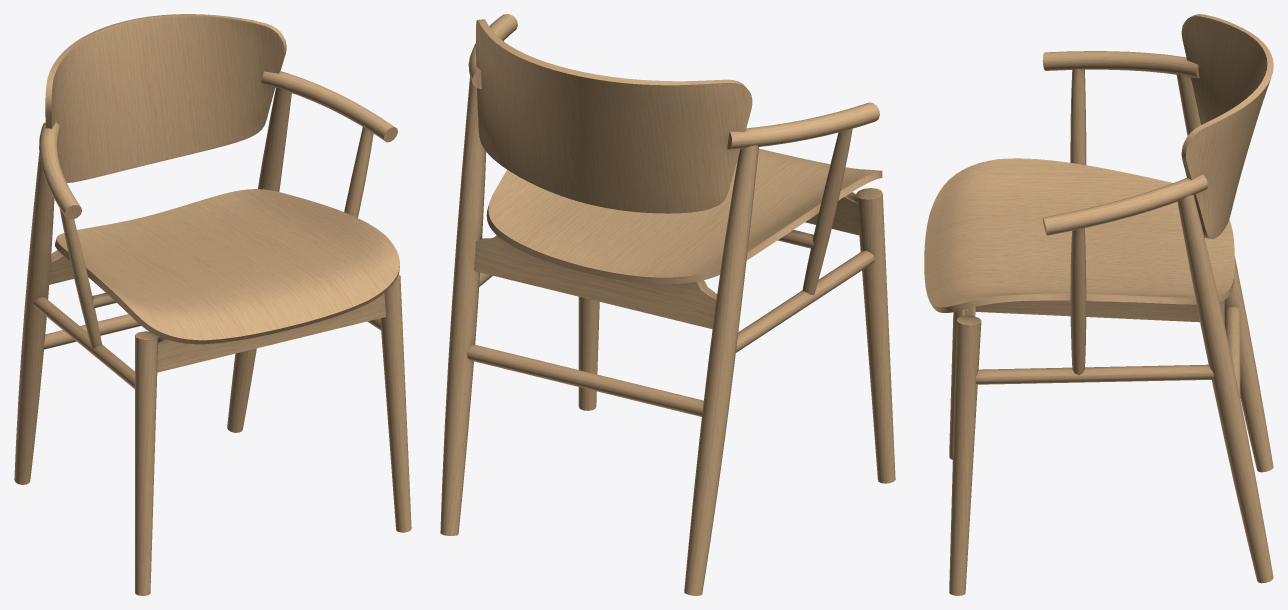
File: N01_Beech.gltf
3 views of the same model, side by side, from view 1: azimuth 30°, elevation 25°; view 2: azimuth 150°, elevation 25°; view 3: azimuth 270°, elevation 25° (orthographic). The views are drawn at different scales.
Visible parts, largest first — view 1: N01; view 2: N01; view 3: N01.
Boxes of the visible parts, box(x1,y1,x2,y2) form: N01: box(14, 14, 411, 595); N01: box(440, 14, 895, 595); N01: box(924, 14, 1273, 595).
Size of the model in its own units: 0.6194 by 0.7694 by 0.5284.
1 material, 1 textured.
